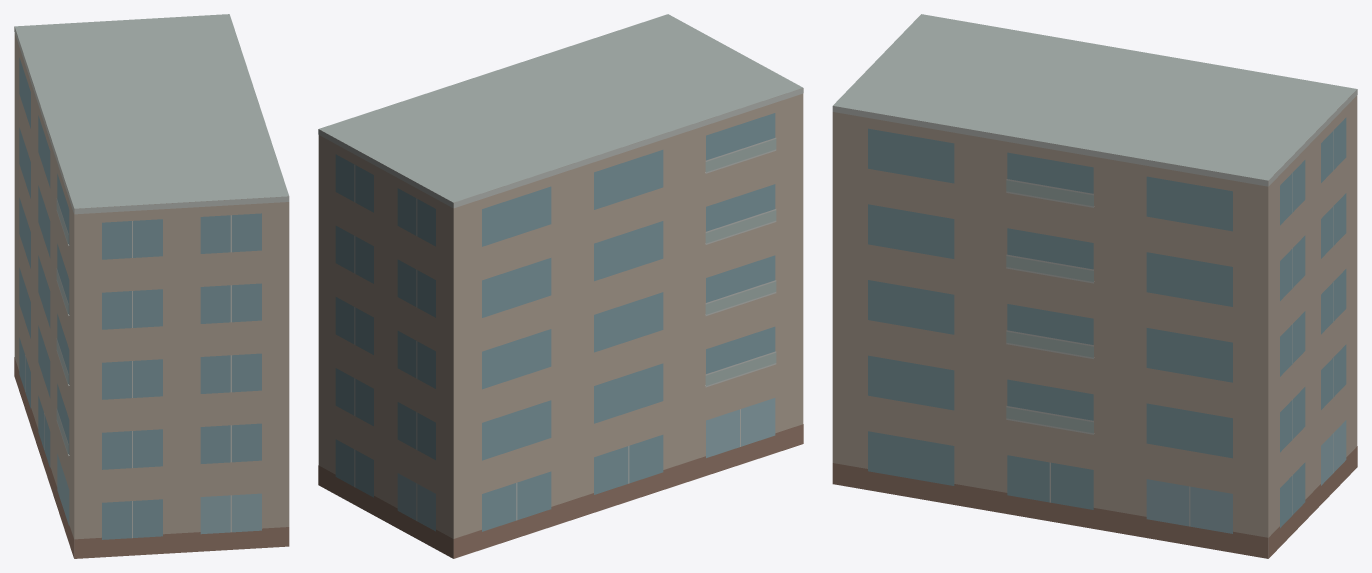
File: survey-upis-32753033.glb
The picture shows the model from 3 angles, left to right: view 1: azimuth 30°, elevation 25°; view 2: azimuth 150°, elevation 25°; view 3: azimuth 270°, elevation 25°; orthographic projection. The views are drawn at different scales.
Parts seen in each view (by area): view 1: survey-upis-32753033.tmp; view 2: survey-upis-32753033.tmp; view 3: survey-upis-32753033.tmp.
Boxes of the visible parts, x1=… form: survey-upis-32753033.tmp: x1=14, y1=14, x2=289, y2=558; survey-upis-32753033.tmp: x1=318, y1=14, x2=803, y2=558; survey-upis-32753033.tmp: x1=832, y1=14, x2=1357, y2=558.
Bounding box in the file's own units: 14.42 × 15.25 × 19.18.
